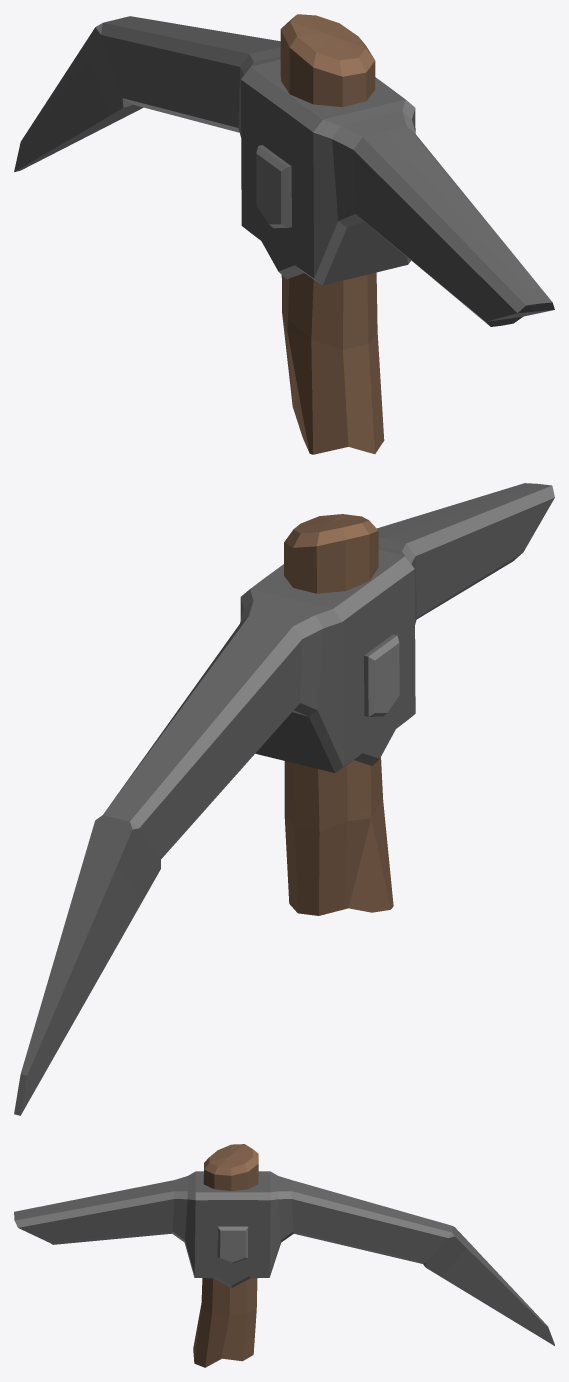
File: Pickaxe1_Destroyed_2.fbx
3 views of the same model, one above another, from view 1: azimuth 30°, elevation 25°; view 2: azimuth 150°, elevation 25°; view 3: azimuth 270°, elevation 25° (orthographic). The views are drawn at different scales.
Visible parts, largest first — view 1: Pickaxe1_Destroyed_2; view 2: Pickaxe1_Destroyed_2; view 3: Pickaxe1_Destroyed_2.
Part boxes in pixels (x1,y1,x2,y2): Pickaxe1_Destroyed_2: [14, 14, 554, 454]; Pickaxe1_Destroyed_2: [14, 483, 554, 1115]; Pickaxe1_Destroyed_2: [14, 1144, 554, 1367].
Size of the model in its own units: 13.04 by 42.51 by 99.06.
